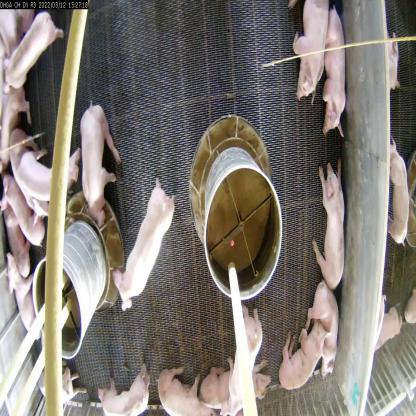Pig: (106, 171, 174, 309), (298, 271, 354, 394), (316, 158, 359, 302), (14, 131, 89, 199), (78, 88, 115, 221), (4, 174, 54, 272), (205, 362, 291, 415), (6, 11, 63, 89), (4, 245, 44, 344), (292, 0, 328, 104), (157, 346, 208, 415), (230, 295, 257, 415), (94, 370, 154, 415), (285, 324, 322, 396), (322, 12, 344, 130), (44, 369, 84, 416)
